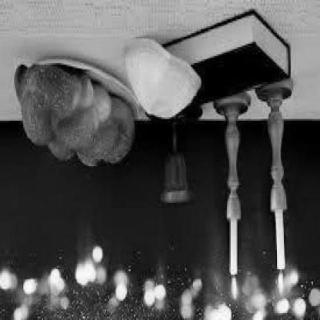other: (241, 283, 275, 320)
